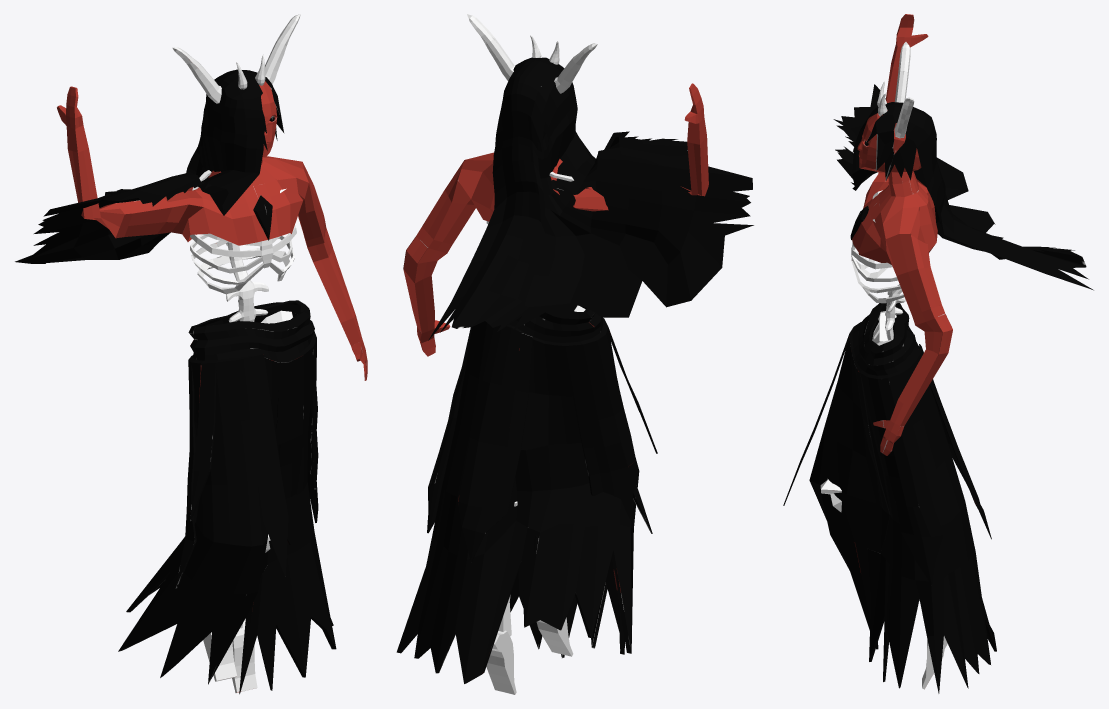
File: cursedqueenattack_14.fbx
3 views of the same model, side by side, from view 1: azimuth 30°, elevation 25°; view 2: azimuth 150°, elevation 25°; view 3: azimuth 270°, elevation 25° (orthographic). The views are drawn at different scales.
Parts seen in each view (by area): view 1: cursed_queen; view 2: cursed_queen; view 3: cursed_queen.
Boxes of the visible parts, left/top/right/bottom form: cursed_queen: left=15, top=14, right=367, bottom=694; cursed_queen: left=396, top=14, right=753, bottom=694; cursed_queen: left=783, top=14, right=1093, bottom=693.
Size of the model in its own units: 148 by 281 by 131.
